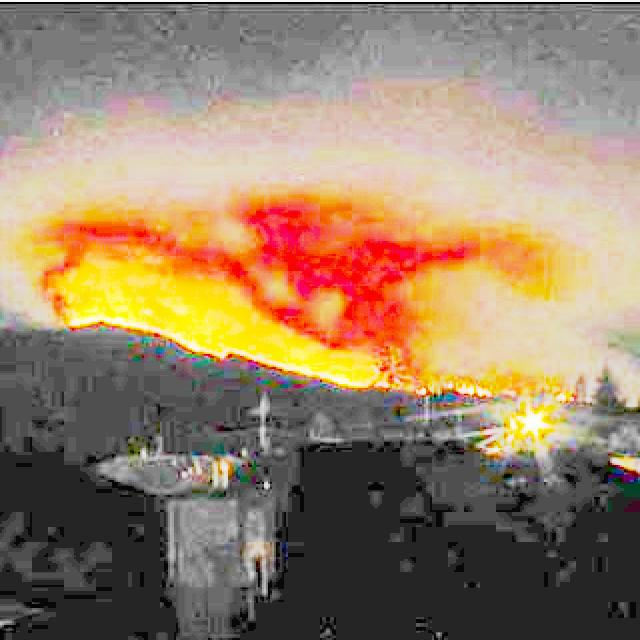api: (51, 287, 383, 395)
asap: (111, 144, 358, 362), (379, 249, 640, 394)
